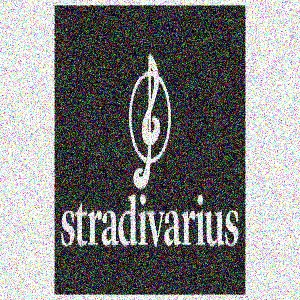stradivarius: (212, 24, 272, 73)
